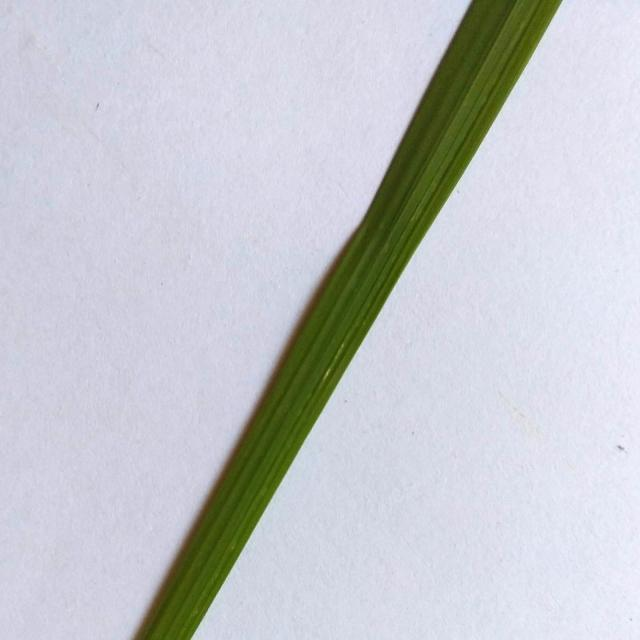healthy: (136, 0, 562, 640)
